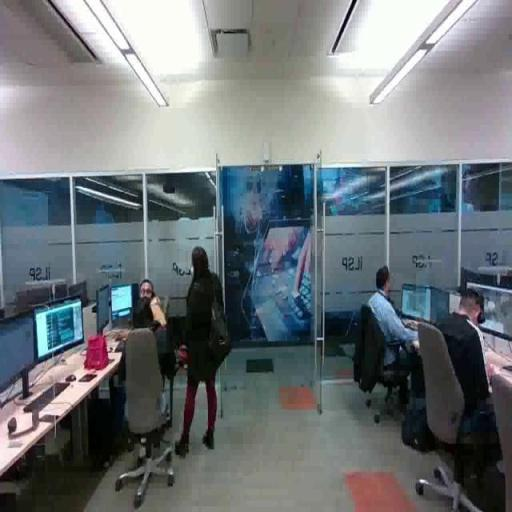person: (180, 238, 228, 459)
